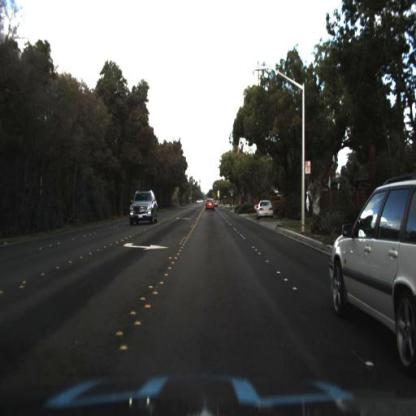car: (323, 167, 416, 372), (126, 185, 161, 232), (255, 198, 277, 223), (202, 192, 218, 215)
